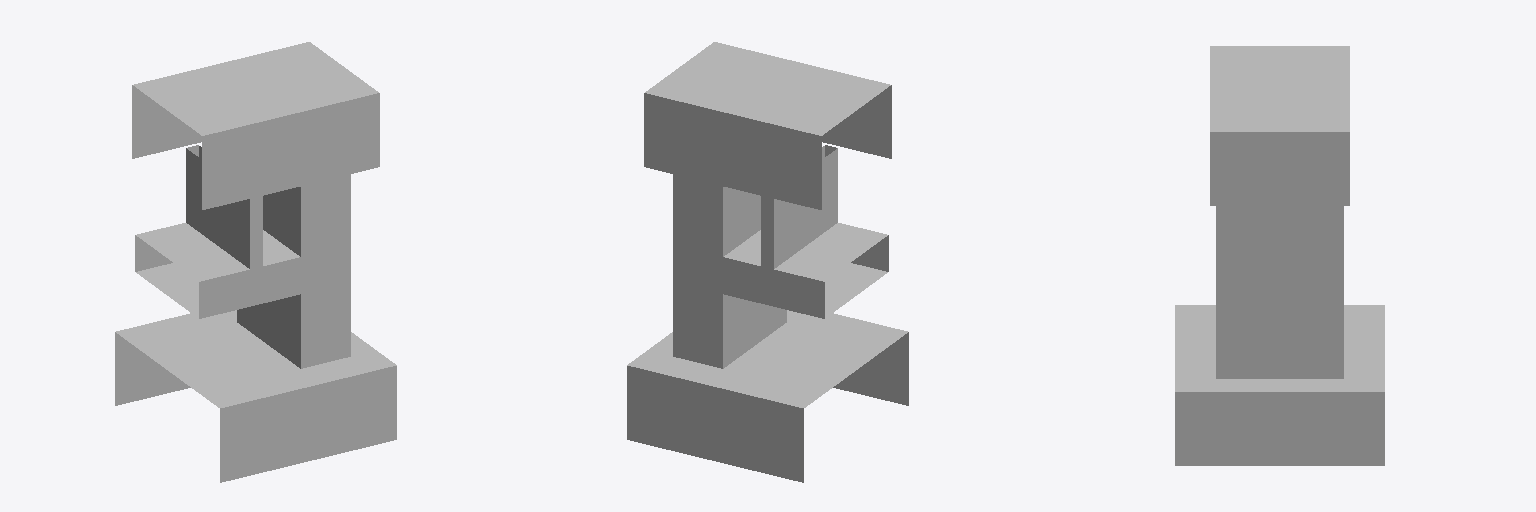
File: wallStart.obj
3 renders of one model, left to right at view 1: azimuth 30°, elevation 25°; view 2: azimuth 150°, elevation 25°; view 3: azimuth 270°, elevation 25°, orthographic.
Parts seen in each view (by area): view 1: mesh01; view 2: mesh01; view 3: mesh01.
Boxes of the visible parts, box(x1,y1,x2,y2) form: mesh01: box(115, 42, 396, 482); mesh01: box(627, 42, 908, 482); mesh01: box(1175, 46, 1384, 465).
Size of the model in its own units: 0.7001 by 1.26 by 0.718.